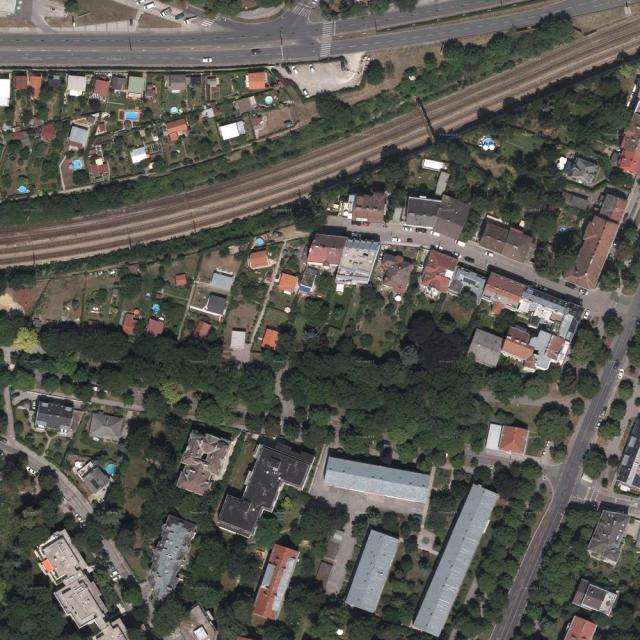building: (462, 267, 587, 381), (410, 482, 500, 639), (211, 428, 320, 554), (563, 183, 635, 293), (137, 513, 199, 604), (323, 456, 431, 504), (496, 317, 572, 384), (172, 422, 237, 500), (344, 528, 401, 614), (562, 211, 622, 292), (249, 542, 301, 623), (401, 185, 473, 241), (312, 526, 359, 598), (476, 218, 538, 265), (333, 233, 381, 292), (70, 451, 119, 506), (414, 245, 460, 303), (586, 509, 629, 565), (215, 493, 265, 540), (369, 248, 416, 298), (561, 153, 610, 192), (164, 604, 218, 639), (62, 106, 100, 155), (572, 578, 619, 616), (465, 328, 507, 369), (32, 395, 75, 434), (447, 265, 488, 305), (338, 192, 388, 223), (402, 193, 441, 231), (88, 412, 125, 444), (86, 143, 112, 183), (498, 425, 530, 457), (306, 244, 342, 271), (12, 71, 43, 98), (564, 615, 597, 640), (162, 117, 192, 143), (559, 189, 592, 212), (209, 268, 237, 293), (90, 77, 113, 103), (246, 248, 270, 271), (277, 271, 300, 295), (206, 293, 228, 317), (164, 72, 188, 94), (485, 423, 503, 450), (66, 75, 87, 98), (120, 312, 139, 337), (434, 170, 451, 197), (234, 96, 258, 115), (191, 320, 212, 341), (245, 71, 268, 90), (261, 327, 280, 349), (127, 75, 145, 98), (146, 317, 166, 337), (219, 122, 240, 141), (128, 146, 149, 165), (230, 327, 247, 350), (11, 130, 32, 148), (206, 76, 220, 101), (0, 77, 11, 107), (39, 123, 56, 141), (92, 121, 108, 136), (145, 82, 159, 99), (201, 107, 220, 118), (174, 272, 188, 286), (187, 74, 203, 85)
dryland: (326, 27, 452, 109), (277, 51, 371, 101), (283, 77, 322, 128), (249, 106, 296, 139), (46, 17, 71, 28)
greenland: (0, 88, 414, 243), (283, 297, 507, 498), (37, 214, 266, 292), (460, 457, 545, 640), (514, 495, 606, 640), (272, 284, 410, 357), (296, 142, 411, 211), (137, 477, 220, 547), (563, 299, 630, 379), (283, 485, 355, 559), (486, 361, 601, 407), (374, 546, 435, 629), (424, 129, 493, 202), (187, 528, 263, 586), (525, 224, 595, 286), (68, 496, 132, 561), (279, 397, 340, 453), (455, 296, 518, 350), (185, 526, 238, 590), (1, 135, 59, 193), (594, 374, 638, 445), (185, 387, 242, 437), (305, 590, 359, 640), (530, 397, 577, 449), (576, 441, 622, 487), (215, 585, 254, 639), (284, 576, 325, 625), (247, 208, 327, 233), (138, 430, 182, 475), (352, 506, 423, 533), (355, 52, 398, 94), (381, 555, 407, 624), (88, 565, 124, 611), (155, 411, 195, 451), (134, 384, 173, 425), (252, 510, 285, 552), (176, 581, 224, 609), (119, 601, 155, 635), (0, 263, 38, 294), (116, 574, 146, 611), (126, 416, 152, 457), (31, 463, 62, 495), (244, 411, 280, 437), (516, 455, 546, 486), (455, 614, 491, 638), (34, 77, 63, 104), (11, 89, 32, 126), (296, 550, 321, 581), (19, 103, 51, 125), (348, 616, 378, 639), (54, 511, 80, 537), (525, 490, 549, 515), (547, 441, 572, 465), (263, 621, 294, 640), (628, 321, 640, 367), (351, 514, 369, 544), (526, 434, 546, 458), (52, 106, 75, 123), (278, 496, 295, 513), (0, 105, 15, 124), (345, 425, 360, 440)
metalled_road: (323, 201, 636, 318), (0, 386, 96, 536), (572, 479, 640, 516), (100, 534, 135, 581), (533, 458, 565, 495), (477, 448, 529, 470), (509, 581, 519, 596)
